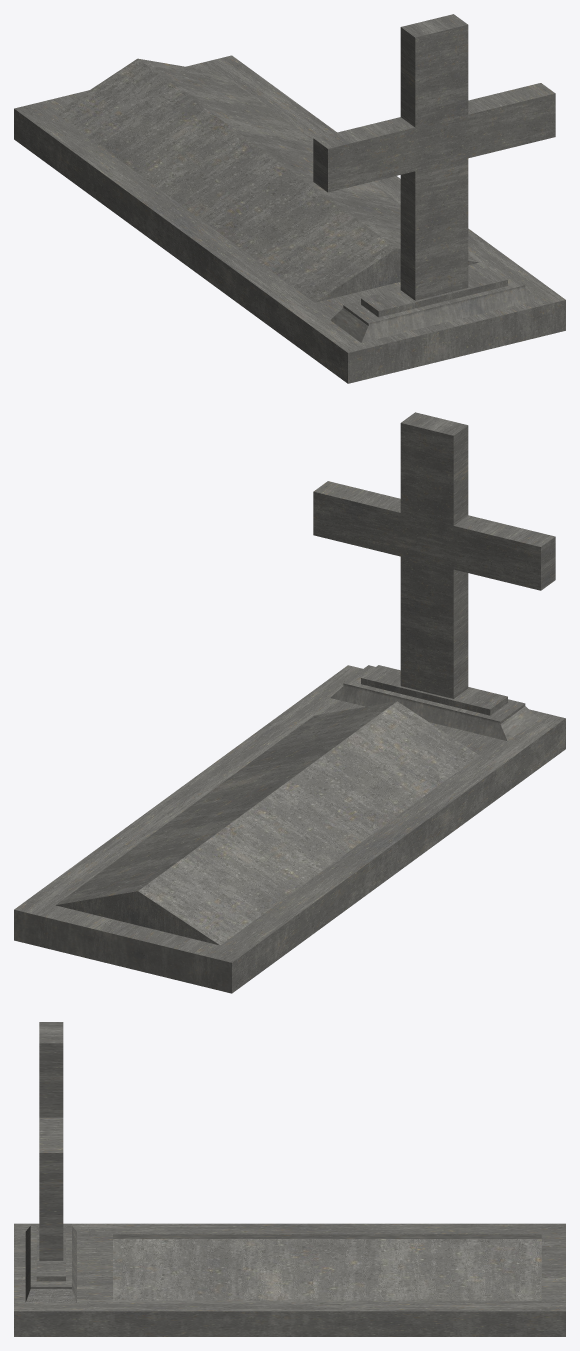
Rendered from Grave3.fbx.
The picture shows the model from 3 angles, top to bottom: view 1: azimuth 30°, elevation 25°; view 2: azimuth 150°, elevation 25°; view 3: azimuth 270°, elevation 25°; orthographic projection. The views are drawn at different scales.
Visible parts, largest first — view 1: pCube1; view 2: pCube1; view 3: pCube1.
Boxes of the visible parts, bbox=[...] form: pCube1: bbox=[14, 14, 565, 383]; pCube1: bbox=[14, 412, 565, 993]; pCube1: bbox=[14, 1022, 565, 1336].
Bounding box in the file's own units: 7.73 × 10.22 × 19.64.
